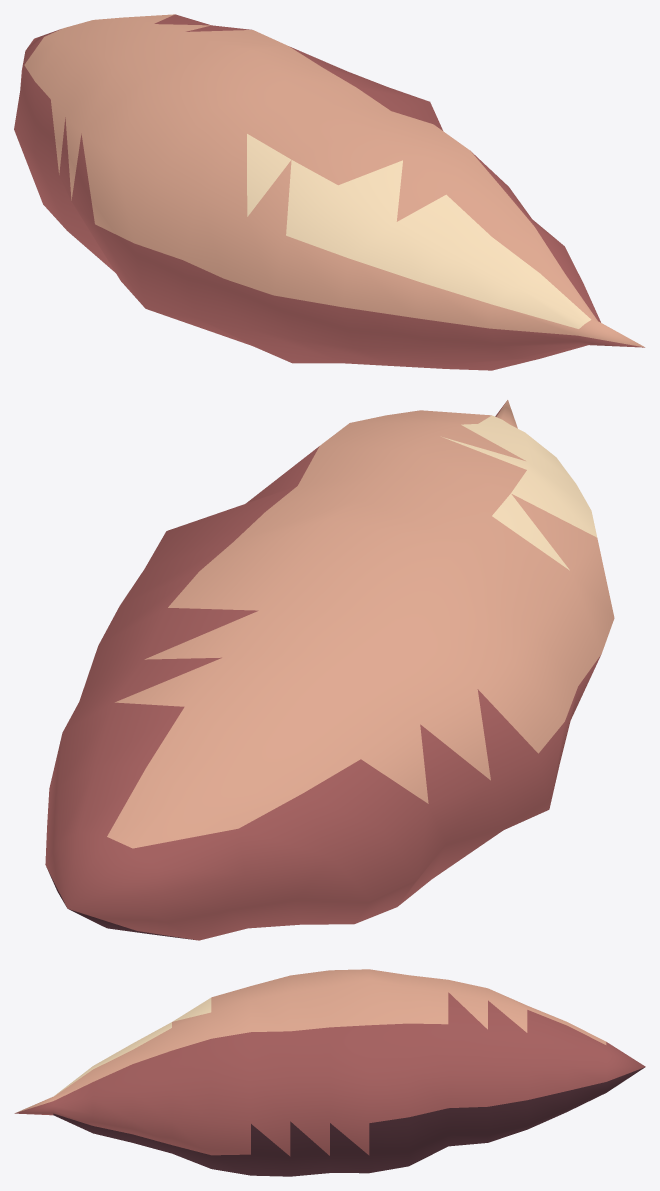
Rendered from flesh_shard.glb.
3 views of the same model, one above another, from view 1: azimuth 30°, elevation 25°; view 2: azimuth 150°, elevation 25°; view 3: azimuth 270°, elevation 25° (orthographic). The views are drawn at different scales.
Parts seen in each view (by area): view 1: flesh_shard; view 2: flesh_shard; view 3: flesh_shard.
Part boxes in pixels (box(x1,y1,x2,y2)): flesh_shard: box(14, 14, 645, 370); flesh_shard: box(45, 400, 614, 940); flesh_shard: box(14, 969, 645, 1176).
Size of the model in its own units: 0.7808 by 0.6413 by 2.
